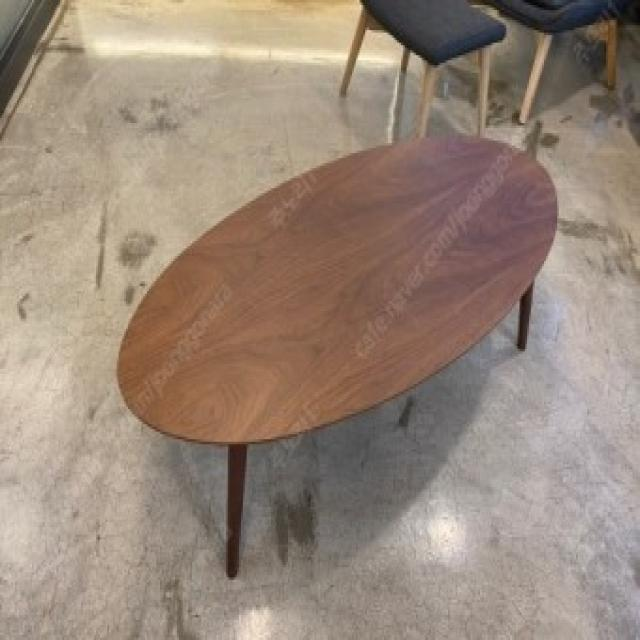Table: (113, 139, 562, 585)
